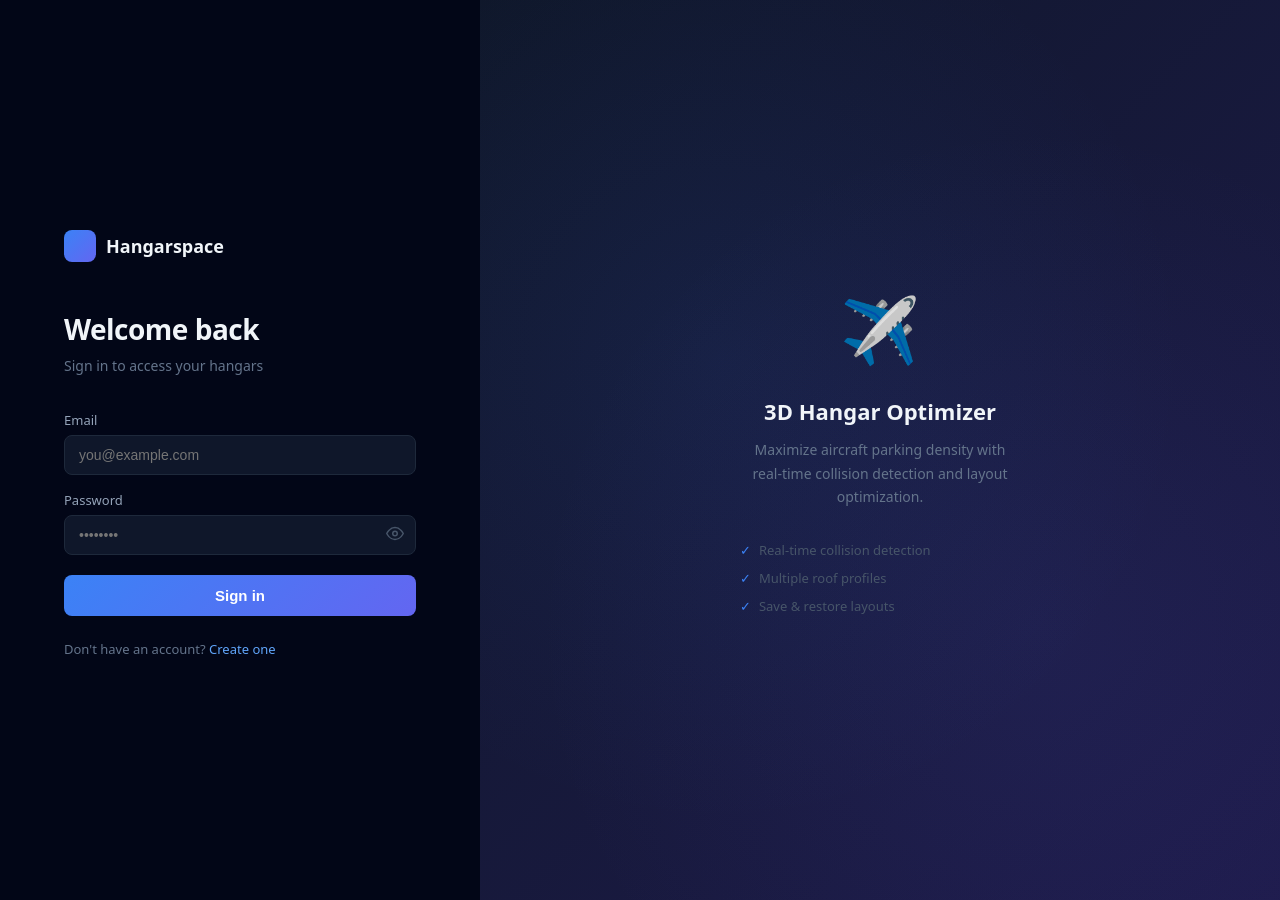
Scenario: Login page › switches back to login mode from register
The image size is (1280, 900).
Click the text "Create one": (242, 648) x1=209 y1=640 x2=276 y2=658
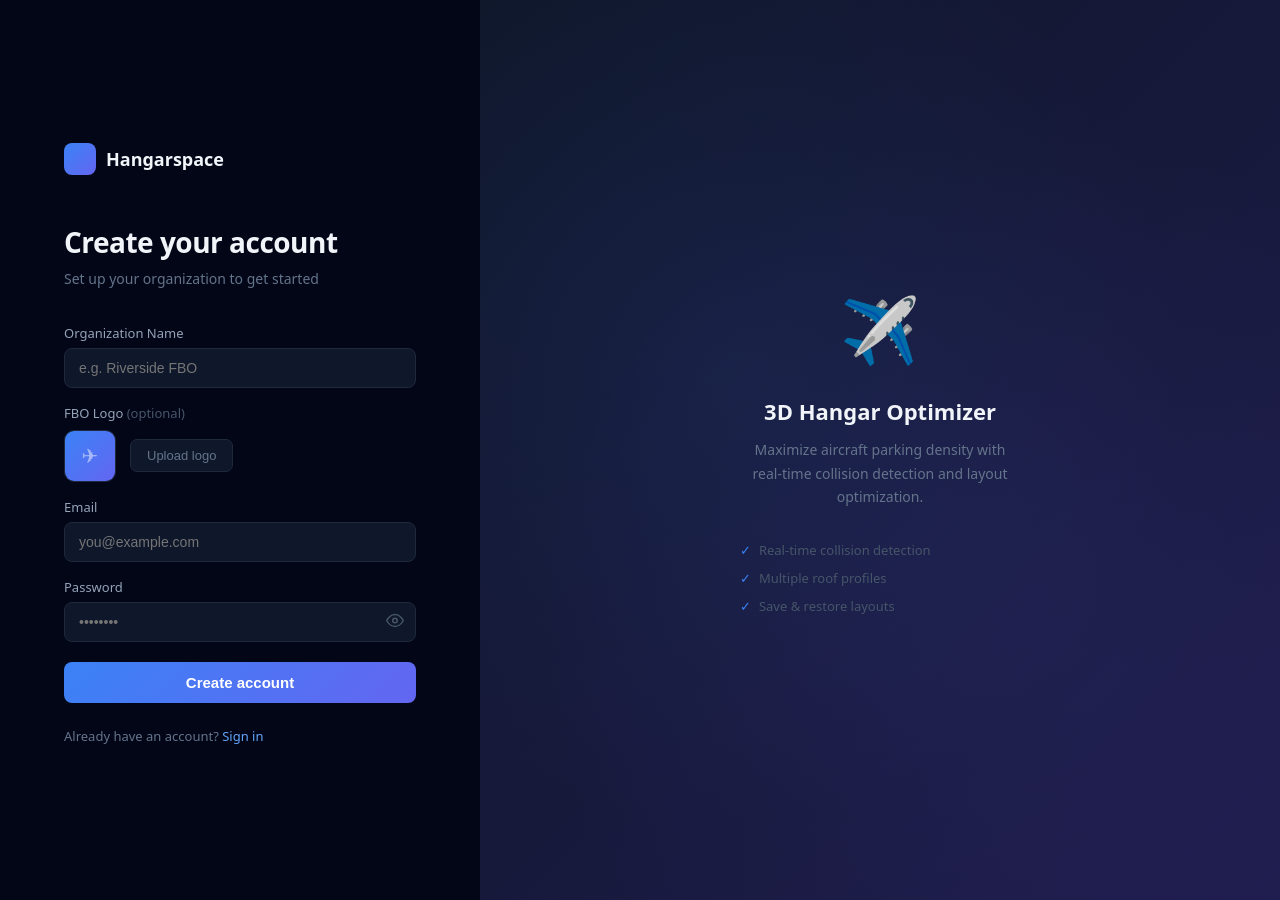
Click the text "Sign in": (243, 736) x1=222 y1=726 x2=264 y2=744
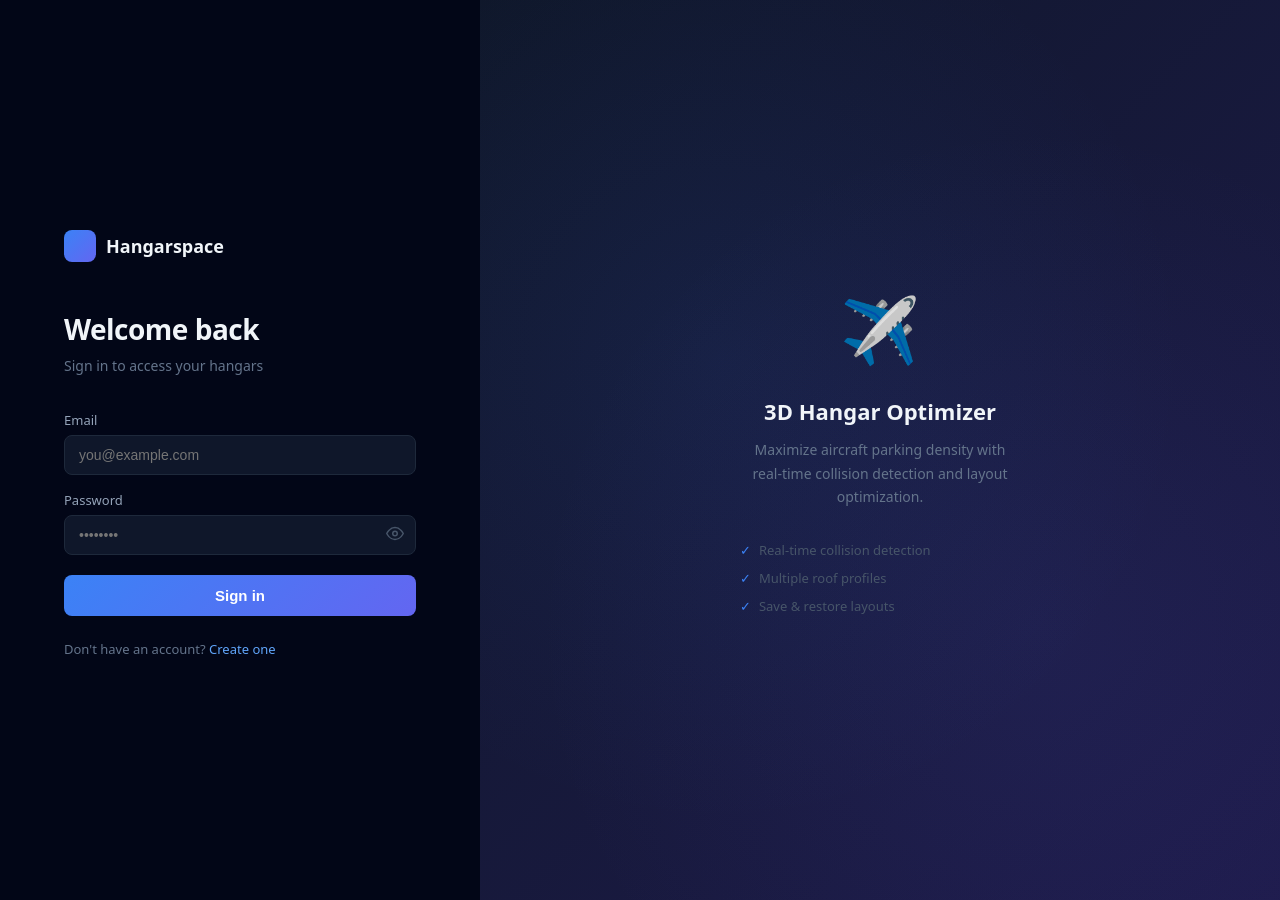
Expected: the heading "Welcome back" is shown, x1=64 y1=310 x2=259 y2=348
